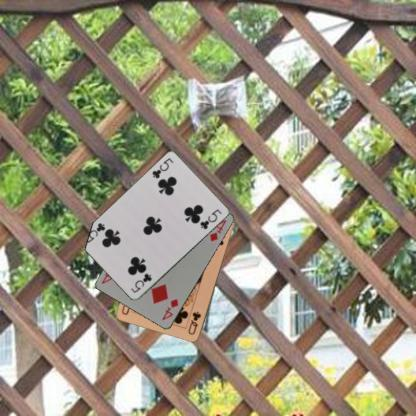4d: (160, 296, 180, 322)
5c: (150, 156, 174, 180), (128, 271, 153, 294)
Qc: (186, 309, 202, 336)
